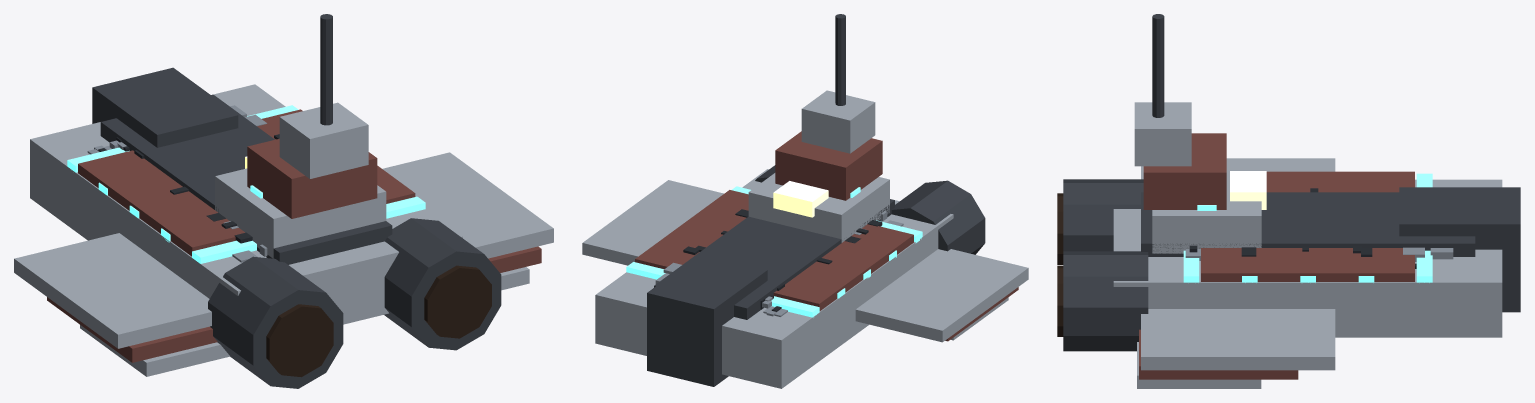
File: troyden_carrier.glb
3 views of the same model, side by side, from view 1: azimuth 30°, elevation 25°; view 2: azimuth 150°, elevation 25°; view 3: azimuth 270°, elevation 25° (orthographic). The views are drawn at different scales.
Visible parts, largest first — view 1: hull, engines, bay; view 2: hull, bay, engines; view 3: hull, engines, bay.
Part boxes in pixels (x1,y1,x2,y2): hull: (14,14,553,376); engines: (208,218,501,388); bay: (92,67,238,147); hull: (582,14,1028,388); bay: (647,253,767,386); engines: (755,165,985,254); hull: (1113,14,1502,388); engines: (1057,179,1148,351); bay: (1399,187,1520,312).
Size of the model in its own units: 95.78 by 66.33 by 94.4.
